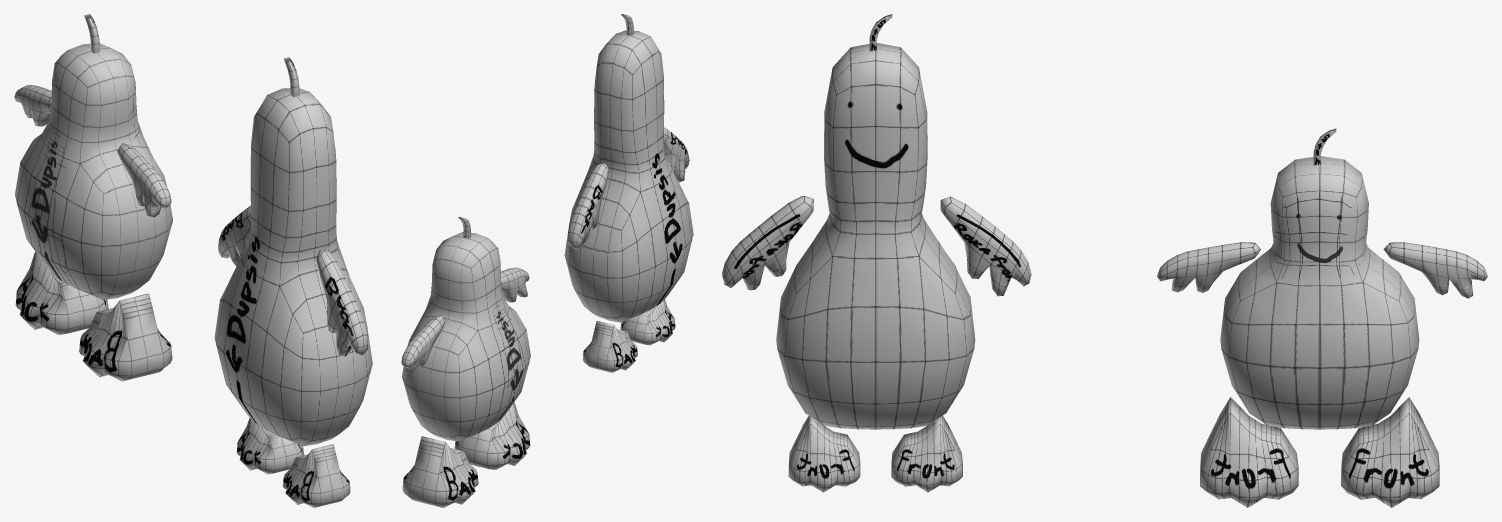
File: Bumbiers.fbx
3 renders of one model, left to right at view 1: azimuth 30°, elevation 25°; view 2: azimuth 150°, elevation 25°; view 3: azimuth 270°, elevation 25°, orthographic. The views are drawn at different scales.
Visible parts, largest first — view 1: Long_Bumbier_Body, Short_Bumbier_Body, Short_Bumbier_Foot_L.001, Short_Bumbier_Foot_L, Long_Bumbier_Arm_R, Long_Bumbier_Foot_L.001, Long_Bumbier_Foot_L, Short_Bumbier_Arm_R, Long_Bumbier_Arm_L, Short_Bumbier_Arm_L; view 2: Long_Bumbier_Body, Short_Bumbier_Body, Short_Bumbier_Foot_L, Short_Bumbier_Foot_L.001, Long_Bumbier_Foot_L, Long_Bumbier_Arm_L, Long_Bumbier_Foot_L.001, Short_Bumbier_Arm_L, Long_Bumbier_Arm_R, Short_Bumbier_Arm_R; view 3: Long_Bumbier_Body, Short_Bumbier_Body, Short_Bumbier_Foot_L, Short_Bumbier_Foot_L.001, Long_Bumbier_Arm_L, Long_Bumbier_Arm_R, Long_Bumbier_Foot_L.001, Long_Bumbier_Foot_L, Short_Bumbier_Arm_L, Short_Bumbier_Arm_R.
Boxes of the visible parts, <box> form: Long_Bumbier_Body: <box>214,88,372,445</box>; Short_Bumbier_Body: <box>15,43,172,299</box>; Short_Bumbier_Foot_L.001: <box>79,293,172,381</box>; Short_Bumbier_Foot_L: <box>15,251,108,334</box>; Long_Bumbier_Arm_R: <box>316,250,368,356</box>; Long_Bumbier_Foot_L.001: <box>282,444,350,507</box>; Long_Bumbier_Foot_L: <box>236,418,304,474</box>; Short_Bumbier_Arm_R: <box>117,143,171,217</box>; Long_Bumbier_Arm_L: <box>218,205,250,266</box>; Short_Bumbier_Arm_L: <box>14,85,51,126</box>; Long_Bumbier_Body: <box>564,30,693,322</box>; Short_Bumbier_Body: <box>402,232,530,441</box>; Short_Bumbier_Foot_L: <box>402,436,478,507</box>; Short_Bumbier_Foot_L.001: <box>454,402,530,469</box>; Long_Bumbier_Foot_L: <box>582,321,637,372</box>; Long_Bumbier_Arm_L: <box>567,163,608,248</box>; Long_Bumbier_Foot_L.001: <box>620,299,675,345</box>; Short_Bumbier_Arm_L: <box>401,315,445,373</box>; Long_Bumbier_Arm_R: <box>663,127,689,182</box>; Short_Bumbier_Arm_R: <box>501,267,529,302</box>; Long_Bumbier_Body: <box>776,43,975,429</box>; Short_Bumbier_Body: <box>1220,156,1419,429</box>; Short_Bumbier_Foot_L: <box>1341,397,1439,507</box>; Short_Bumbier_Foot_L.001: <box>1200,397,1298,507</box>; Long_Bumbier_Arm_L: <box>940,196,1031,296</box>; Long_Bumbier_Arm_R: <box>722,196,813,290</box>; Long_Bumbier_Foot_L.001: <box>788,416,860,492</box>; Long_Bumbier_Foot_L: <box>891,416,962,492</box>; Short_Bumbier_Arm_L: <box>1383,242,1487,298</box>; Short_Bumbier_Arm_R: <box>1157,242,1260,292</box>.
Bounding box in the file's own units: 52.59 × 181 × 263.
